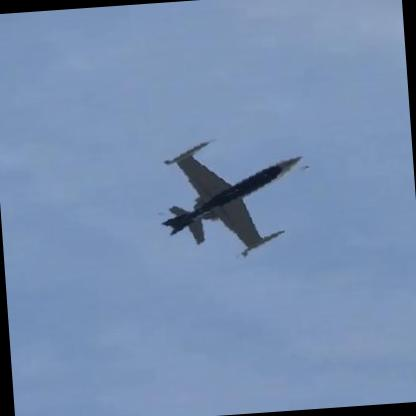plane: (147, 124, 319, 271)
